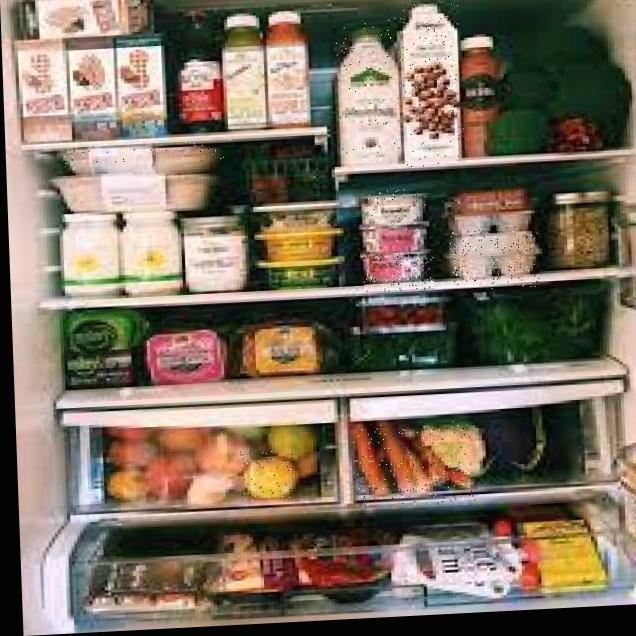carrots: (351, 420, 475, 509)
cheese: (364, 252, 435, 293), (362, 188, 429, 227), (363, 223, 430, 253)
eggs: (449, 226, 540, 291)
lemon: (240, 448, 296, 501)
meat: (54, 160, 228, 217), (63, 139, 233, 181)
milk: (387, 2, 465, 169), (333, 21, 411, 159)
